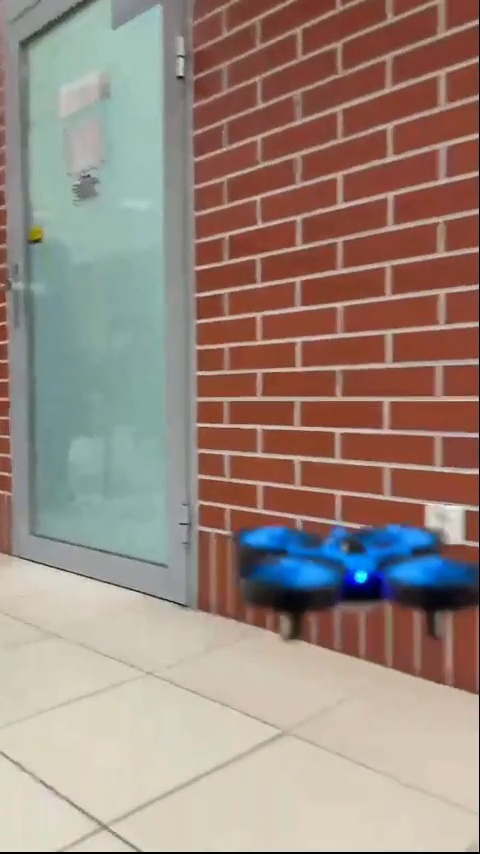drone: (234, 529, 480, 655)
